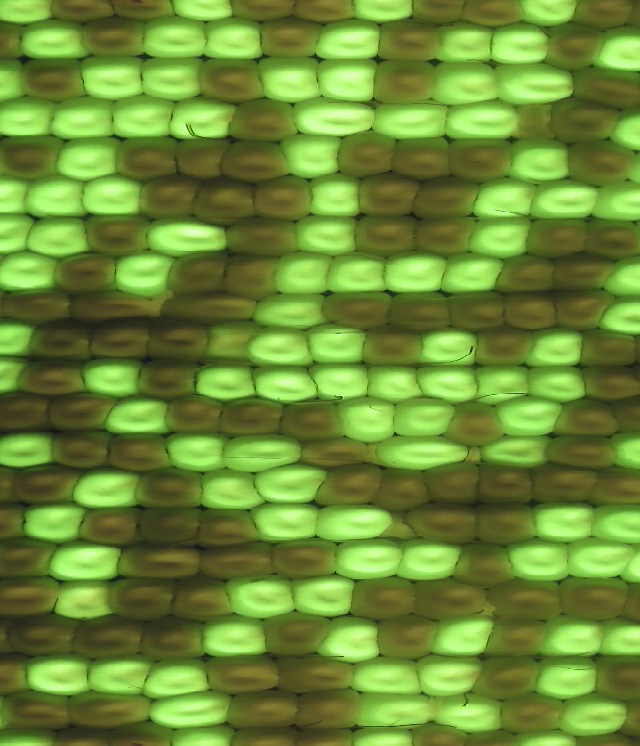fluorescent: (219, 426, 313, 479), (139, 683, 240, 732), (134, 648, 215, 709), (345, 649, 434, 704), (371, 430, 476, 476), (18, 647, 102, 704), (312, 612, 396, 669), (422, 688, 516, 738), (489, 59, 581, 110), (236, 319, 324, 372), (139, 212, 236, 260), (42, 533, 127, 587), (220, 570, 305, 624), (441, 95, 527, 148), (345, 687, 444, 733), (244, 289, 340, 336), (428, 57, 510, 111), (420, 610, 502, 664), (73, 169, 154, 223), (409, 649, 490, 703), (310, 500, 399, 549), (523, 495, 605, 548), (136, 51, 212, 108), (254, 52, 330, 109), (309, 54, 385, 111), (288, 93, 382, 139), (247, 496, 327, 550), (330, 532, 411, 585), (136, 10, 216, 63), (75, 52, 155, 105), (162, 91, 242, 144), (500, 534, 577, 589), (49, 131, 127, 185), (64, 465, 145, 517), (533, 609, 611, 663), (504, 132, 577, 189), (248, 459, 331, 509), (290, 209, 368, 262), (388, 534, 469, 585), (369, 99, 458, 145), (45, 92, 125, 143), (525, 175, 605, 226), (379, 245, 455, 298), (284, 569, 361, 621), (560, 533, 640, 583), (555, 691, 635, 741), (160, 426, 235, 479), (474, 426, 562, 471), (22, 212, 101, 262), (526, 651, 605, 701), (432, 247, 509, 298), (21, 171, 98, 222), (245, 360, 325, 409), (465, 174, 543, 224), (276, 129, 348, 183), (269, 245, 341, 299), (308, 13, 381, 66), (385, 391, 462, 441), (192, 314, 266, 366), (414, 323, 488, 375), (15, 15, 95, 63), (108, 90, 179, 144), (300, 318, 375, 369), (410, 360, 488, 409), (485, 17, 552, 74), (110, 246, 182, 299), (305, 356, 381, 406), (491, 392, 570, 440), (102, 393, 182, 440), (194, 466, 269, 516), (465, 212, 537, 264), (83, 648, 155, 700), (319, 248, 395, 297), (189, 355, 262, 406), (330, 391, 397, 446), (17, 501, 94, 548), (362, 359, 434, 409), (469, 360, 537, 412), (76, 353, 151, 400), (51, 574, 120, 625), (0, 246, 67, 298), (197, 613, 272, 659), (200, 12, 267, 63), (304, 169, 366, 224), (518, 361, 593, 406), (0, 90, 62, 143), (431, 19, 496, 69), (521, 321, 587, 369), (583, 20, 640, 75), (0, 424, 64, 472), (587, 499, 640, 549), (585, 179, 640, 227), (595, 611, 640, 665), (598, 249, 640, 303), (0, 312, 45, 362), (595, 292, 640, 339), (0, 169, 39, 222), (0, 209, 41, 259), (515, 1, 587, 29), (346, 1, 420, 28), (604, 101, 640, 156), (0, 52, 35, 107), (162, 1, 239, 25), (607, 424, 640, 476), (0, 1, 57, 30), (0, 349, 33, 399)
nonfluorescent: (481, 567, 571, 629), (1, 609, 88, 666), (62, 686, 161, 736), (66, 610, 150, 668), (369, 609, 450, 669), (154, 286, 264, 330), (269, 650, 359, 703), (184, 171, 266, 229), (308, 459, 390, 517), (140, 311, 218, 371), (125, 464, 215, 516), (255, 607, 338, 663), (165, 571, 245, 629), (535, 19, 615, 77), (201, 650, 288, 703), (133, 500, 215, 556), (470, 650, 552, 706), (342, 211, 425, 266), (418, 452, 490, 515), (559, 135, 640, 191), (364, 52, 442, 110), (221, 96, 308, 148), (44, 246, 126, 301), (110, 538, 208, 584), (264, 533, 349, 586), (520, 458, 605, 511), (215, 212, 305, 262), (109, 132, 189, 188), (63, 286, 172, 327), (442, 130, 519, 188), (491, 688, 576, 740), (195, 538, 285, 587), (101, 573, 181, 628), (470, 494, 548, 550), (8, 457, 87, 512), (287, 685, 372, 736), (134, 612, 210, 669), (0, 684, 80, 738), (195, 51, 272, 107), (247, 170, 321, 228), (223, 684, 307, 735), (535, 428, 624, 476), (345, 574, 427, 626), (315, 286, 402, 335), (406, 498, 486, 551), (476, 610, 553, 665), (553, 569, 630, 624), (73, 501, 151, 555), (412, 571, 490, 625), (544, 92, 625, 144), (215, 246, 284, 307), (76, 209, 160, 259), (211, 390, 293, 441), (132, 170, 208, 225), (405, 173, 485, 225), (20, 313, 101, 364), (213, 137, 299, 185), (292, 429, 378, 477), (520, 212, 599, 264), (277, 395, 355, 447), (547, 283, 625, 335), (384, 286, 463, 337), (159, 246, 235, 299), (385, 130, 458, 185), (127, 354, 207, 404), (15, 56, 93, 107), (546, 395, 625, 445), (465, 318, 539, 371), (10, 353, 95, 399), (565, 62, 640, 114), (0, 130, 72, 184), (450, 539, 522, 593), (439, 399, 515, 450), (490, 247, 563, 300), (369, 463, 438, 519), (372, 15, 446, 67), (100, 429, 180, 477), (254, 10, 326, 63), (353, 170, 425, 223), (471, 459, 544, 511), (45, 388, 124, 436), (75, 13, 152, 62), (191, 506, 271, 553), (543, 248, 622, 295), (331, 127, 401, 180), (0, 285, 82, 330), (499, 286, 567, 340), (355, 319, 427, 370), (46, 427, 118, 478), (0, 568, 63, 625), (441, 288, 514, 337), (86, 315, 159, 364), (161, 389, 232, 439), (409, 212, 484, 259), (580, 211, 640, 268), (0, 530, 64, 583), (169, 134, 235, 184), (587, 646, 640, 708), (571, 359, 640, 406), (574, 325, 640, 371), (0, 384, 58, 436), (587, 462, 640, 511), (454, 1, 533, 33), (565, 1, 639, 34), (285, 1, 363, 28), (44, 1, 120, 26), (219, 1, 299, 24), (607, 389, 640, 443), (0, 649, 35, 699), (405, 1, 469, 28), (109, 1, 183, 24), (0, 498, 35, 546), (466, 650, 470, 651)
